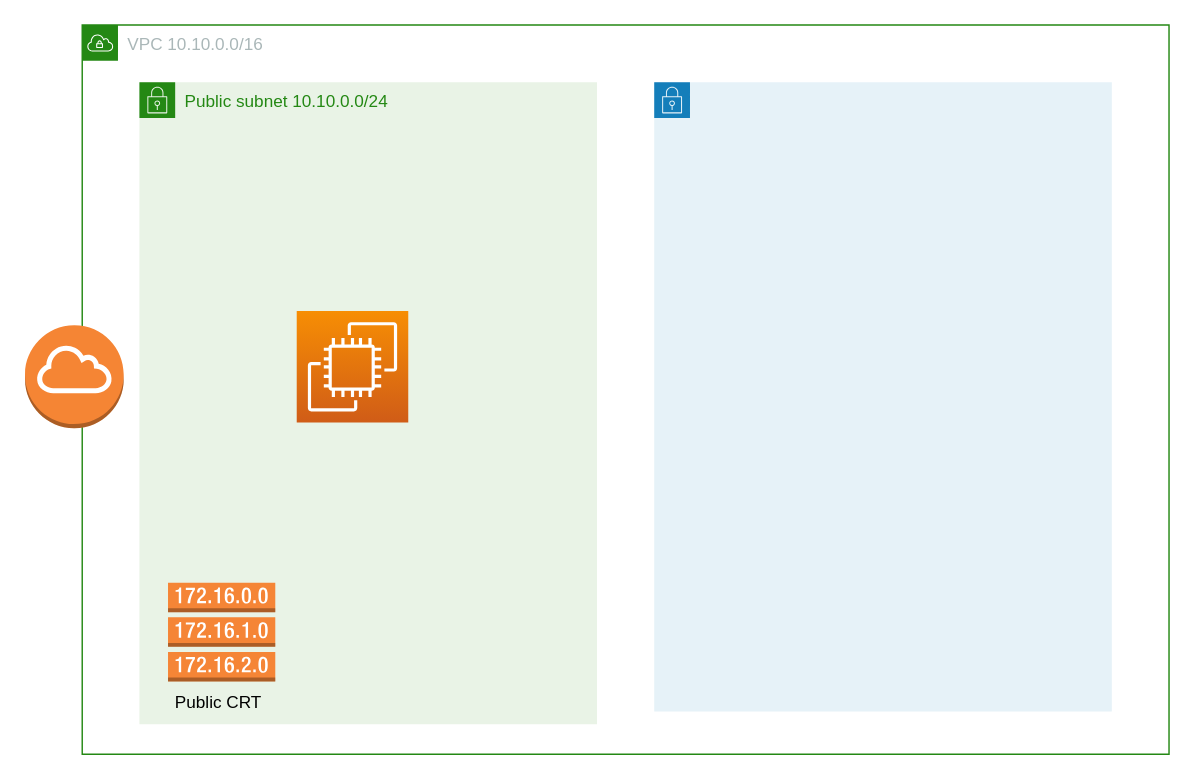
The diagram is 1194 pixels wide and 779 high, and some of its shapes have lost their labels. The shapes that lost their labels are listed below. From the top down, each one's centre as x and y in pixels, then its label:
the point at 351,366: Public instance
the point at 882,396: Private subnet 10.10.1.0/24
